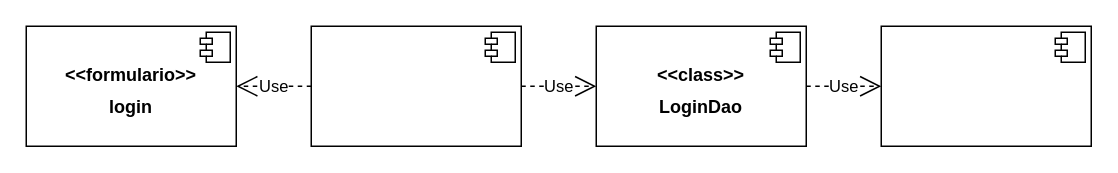
Some shapes in this 1118 by 173 pixel diagram are drawn without their labels. Here are the shapes that lost their labels. From the top down, the centre of each, then its label:
(415,85): <<class>> LoginControle
(985,85): <<Banco de dados>>
